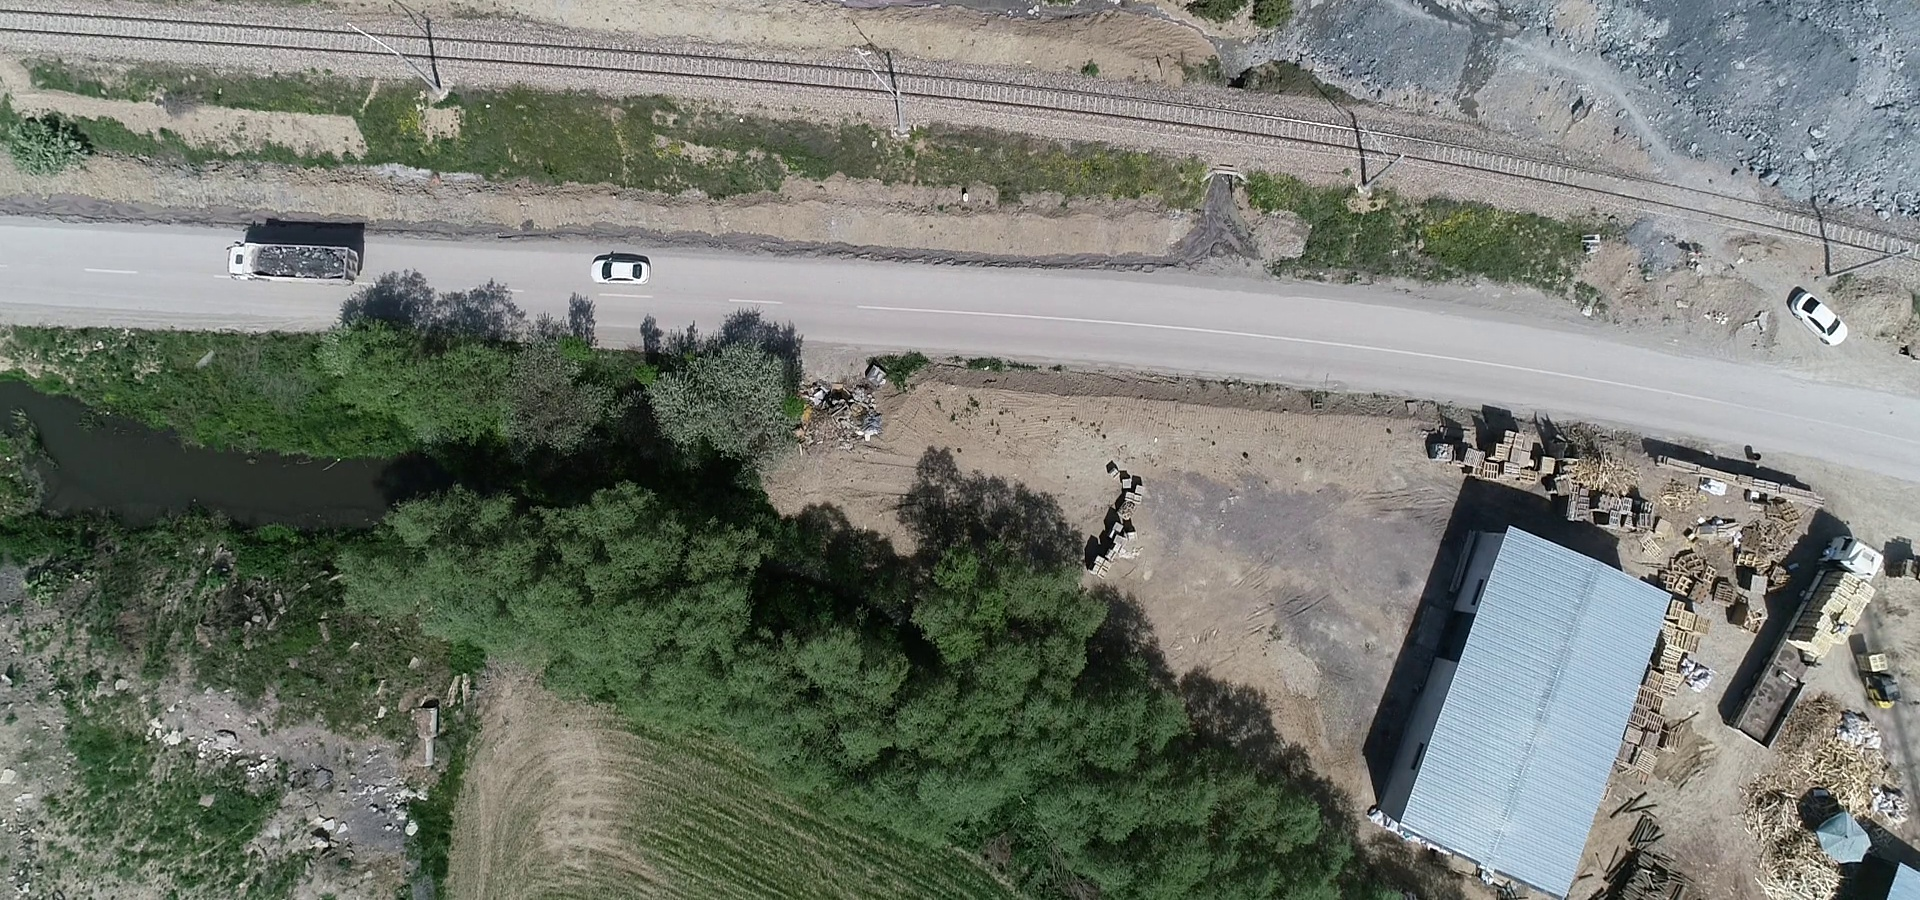araba: (1790, 285, 1855, 355), (590, 251, 656, 294)
kamyon: (1707, 533, 1897, 760), (218, 223, 371, 298)
